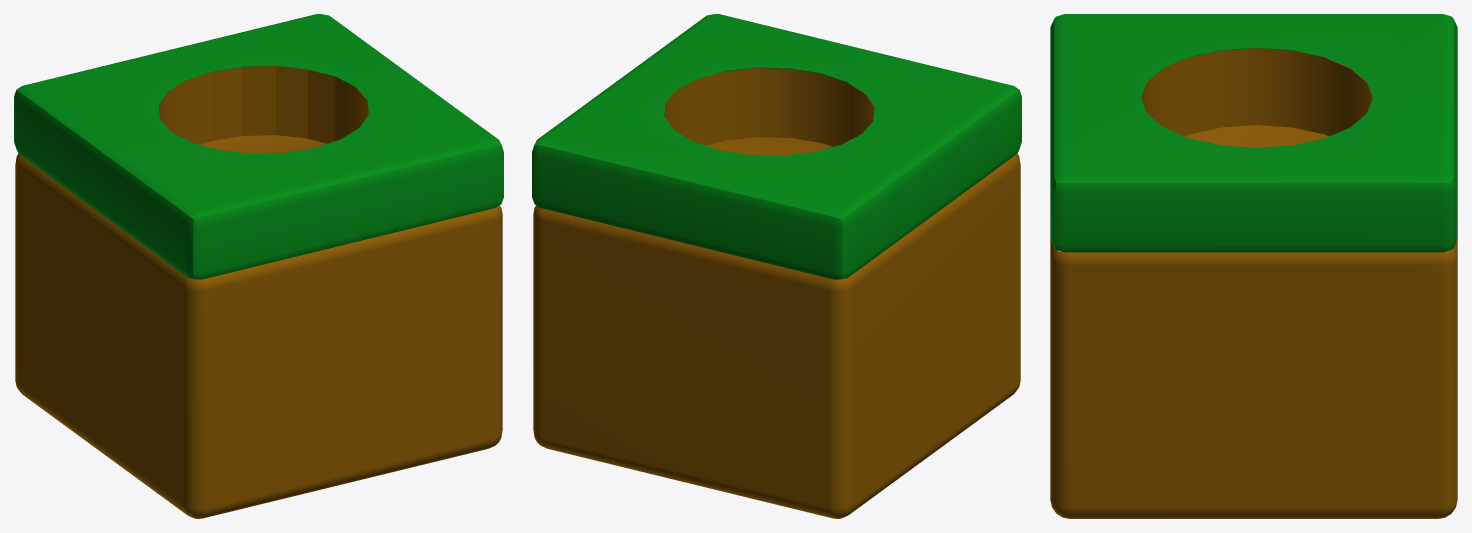
File: hole_block.fbx
The picture shows the model from 3 angles, left to right: view 1: azimuth 30°, elevation 25°; view 2: azimuth 150°, elevation 25°; view 3: azimuth 270°, elevation 25°; orthographic projection. The views are drawn at different scales.
Parts seen in each view (by area): view 1: pCube9; view 2: pCube9; view 3: pCube9.
Boxes of the visible parts, x1,y1,x2,y2 form: pCube9: (14, 14, 503, 518); pCube9: (532, 14, 1021, 518); pCube9: (1050, 14, 1457, 518).
Size of the model in its own units: 0.01 by 0.00938 by 0.01.
